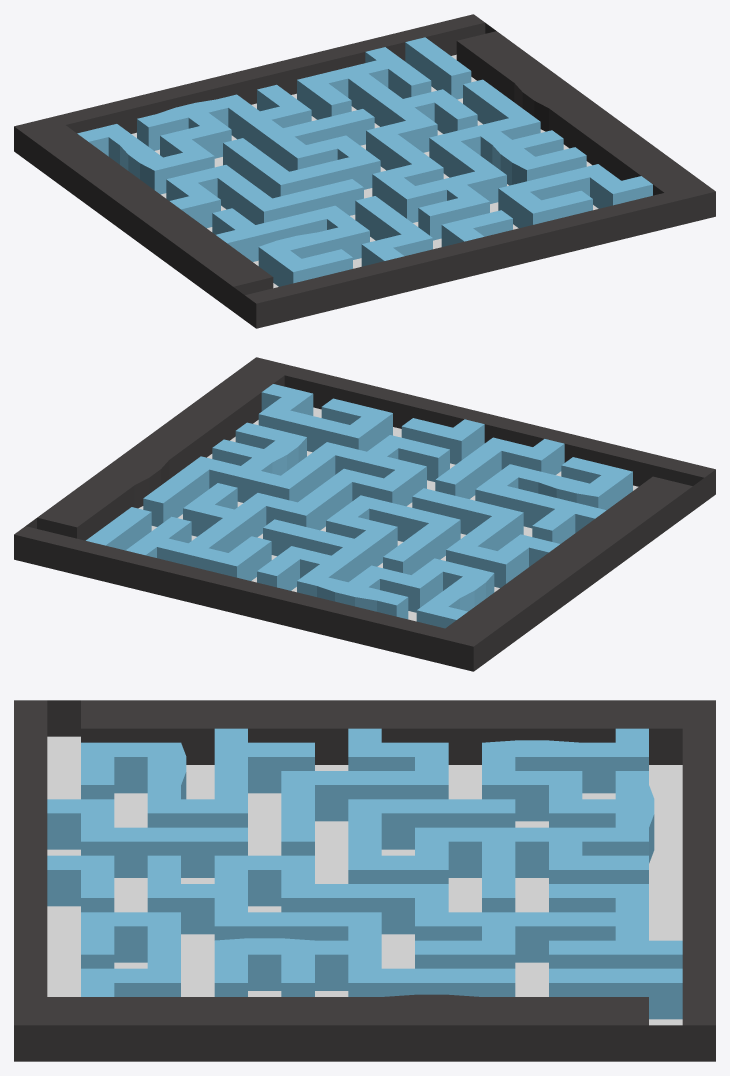
The model's file is mazev5.dae.
3 views of the same model, one above another, from view 1: azimuth 30°, elevation 25°; view 2: azimuth 150°, elevation 25°; view 3: azimuth 270°, elevation 25° (orthographic). The views are drawn at different scales.
Parts seen in each view (by area): view 1: 平面; view 2: 平面; view 3: 平面.
Part boxes in pixels (x1,y1,x2,y2): 平面: [14, 14, 715, 328]; 平面: [14, 357, 715, 671]; 平面: [14, 700, 715, 1061].
Size of the model in its own units: 28.75 by 26.25 by 1.5.
